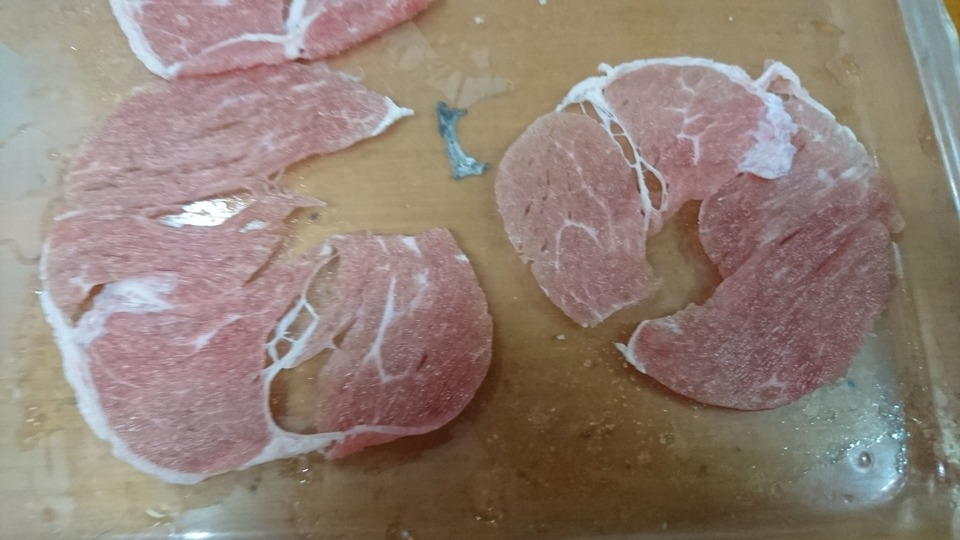restructured meat: (31, 93, 482, 470), (504, 58, 909, 422), (93, 1, 433, 64)
